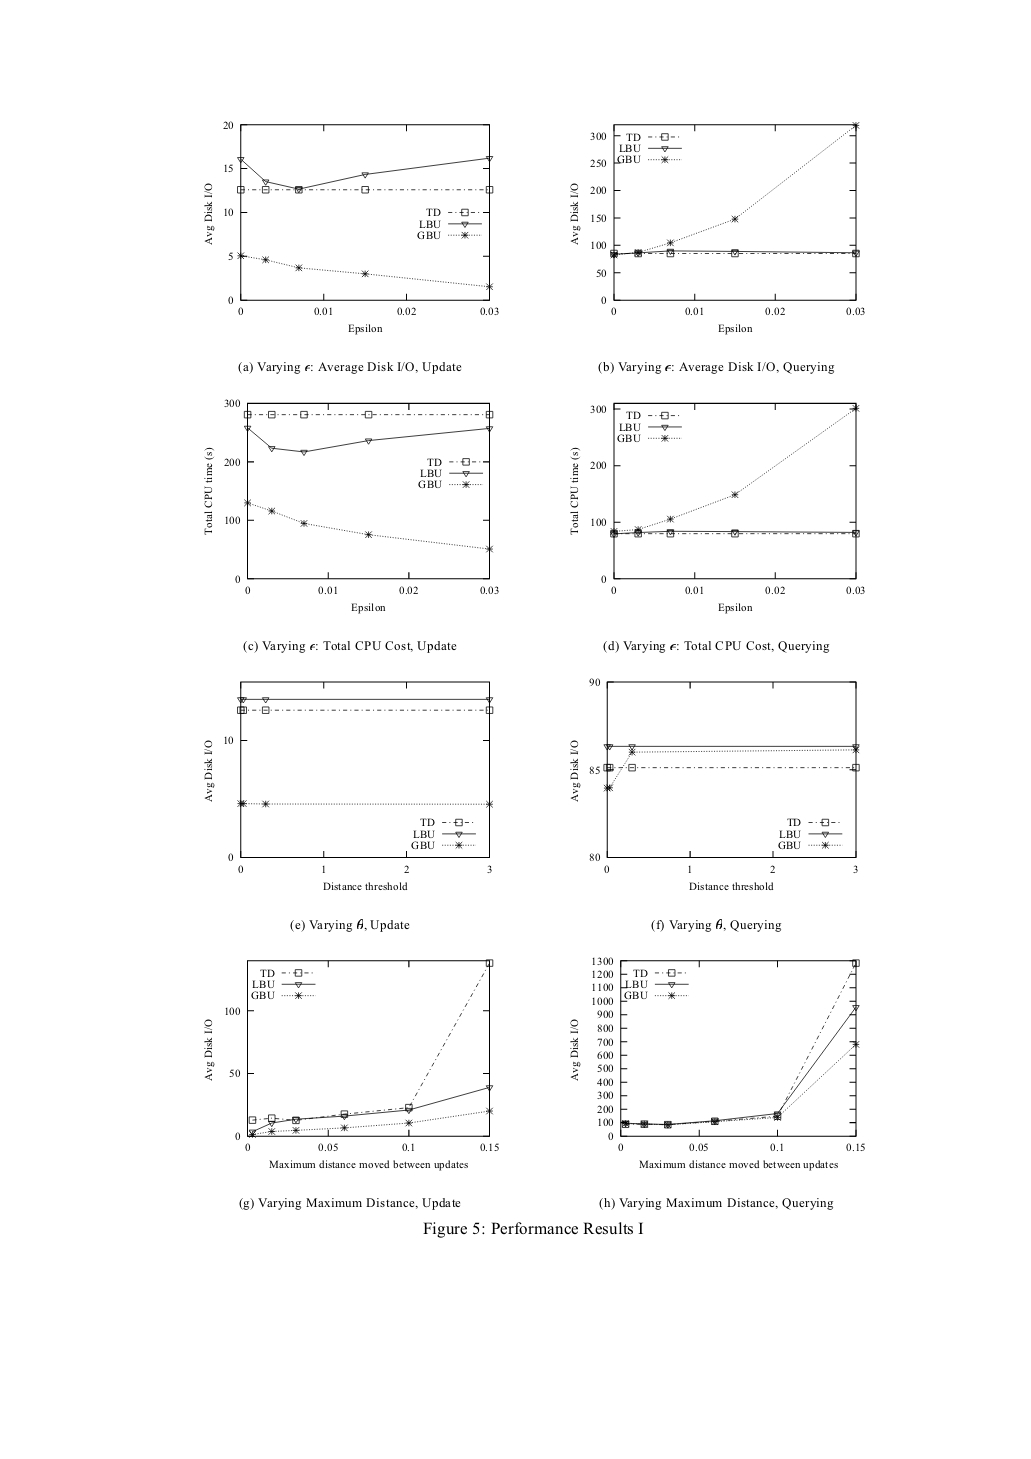figure: (204, 399, 498, 613), (204, 120, 498, 334), (570, 957, 864, 1170), (570, 122, 864, 334), (570, 402, 864, 613), (204, 959, 498, 1170), (570, 677, 859, 861), (204, 680, 493, 861)
